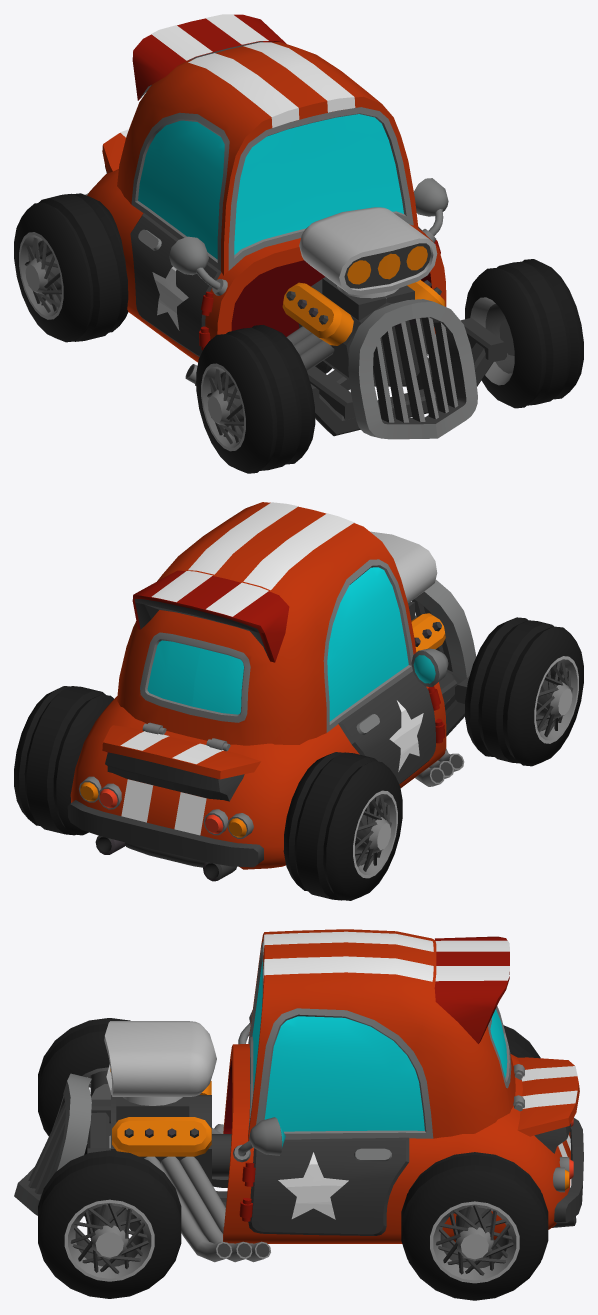
Rendered from VEH1-C.fbx.
3 renders of one model, top to bottom at view 1: azimuth 30°, elevation 25°; view 2: azimuth 150°, elevation 25°; view 3: azimuth 270°, elevation 25°, orthographic.
Visible parts, largest first — view 1: VEH1_C, V1C_Wheel_FR, V1C_Wheel_BR, V1C_Wheel_FL; view 2: VEH1_C, V1C_Wheel_BR, V1C_Wheel_FR, V1C_Wheel_BL; view 3: VEH1_C, V1C_Wheel_BL, V1C_Wheel_FL, V1C_Wheel_FR, V1C_Wheel_BR.
Boxes of the visible parts, x1,y1,x2,y2 form: VEH1_C: [85, 14, 506, 439]; V1C_Wheel_FR: [196, 325, 315, 473]; V1C_Wheel_BR: [14, 193, 128, 342]; V1C_Wheel_FL: [465, 259, 583, 408]; VEH1_C: [67, 502, 476, 881]; V1C_Wheel_BR: [283, 752, 402, 900]; V1C_Wheel_FR: [465, 617, 583, 766]; V1C_Wheel_BL: [14, 686, 114, 835]; VEH1_C: [14, 929, 583, 1262]; V1C_Wheel_BL: [401, 1152, 548, 1300]; V1C_Wheel_FL: [38, 1150, 181, 1298]; V1C_Wheel_FR: [38, 1018, 130, 1154]; V1C_Wheel_BR: [503, 1025, 540, 1058].
Bounding box in the file's own units: 254 × 191 × 354.
Materials: 1 (1 with a texture image).
